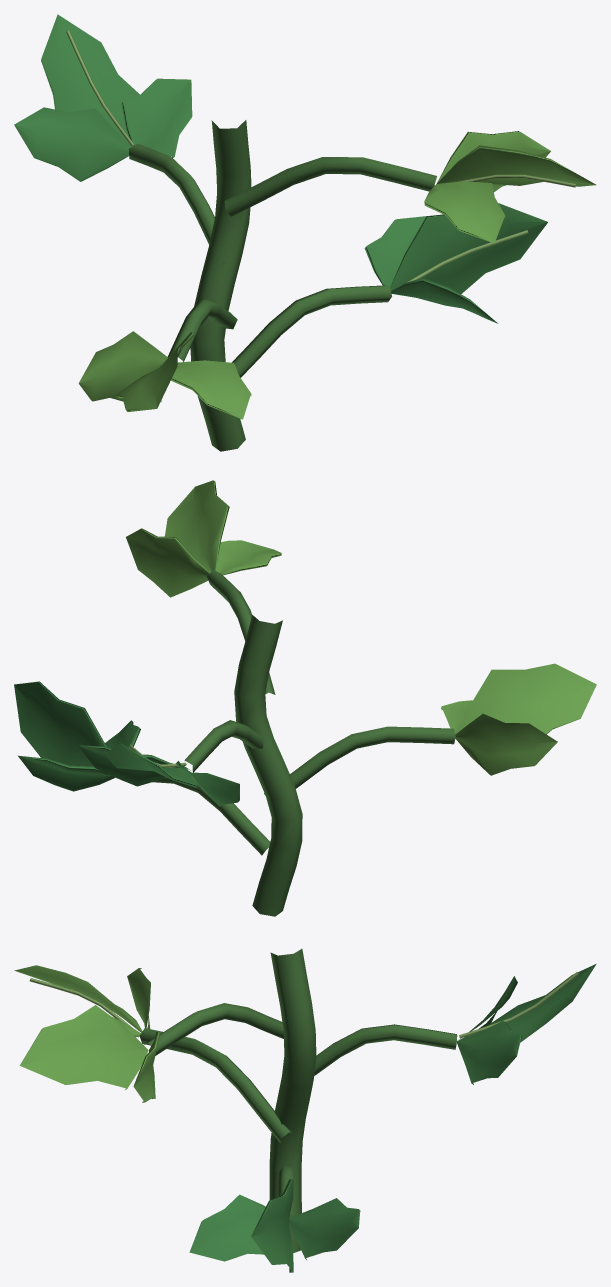
Rendered from tomate_1.glb.
3 renders of one model, top to bottom at view 1: azimuth 30°, elevation 25°; view 2: azimuth 150°, elevation 25°; view 3: azimuth 270°, elevation 25°, orthographic. The views are drawn at different scales.
Parts seen in each view (by area): view 1: tomate_1_mata_0; view 2: tomate_1_mata_0; view 3: tomate_1_mata_0.
Boxes of the visible parts, x1=… form: tomate_1_mata_0: x1=14, y1=14, x2=595, y2=451; tomate_1_mata_0: x1=14, y1=480, x2=596, y2=916; tomate_1_mata_0: x1=14, y1=949, x2=596, y2=1272.
Bounding box in the file's own units: 0.6091 × 0.3679 × 0.6174.
